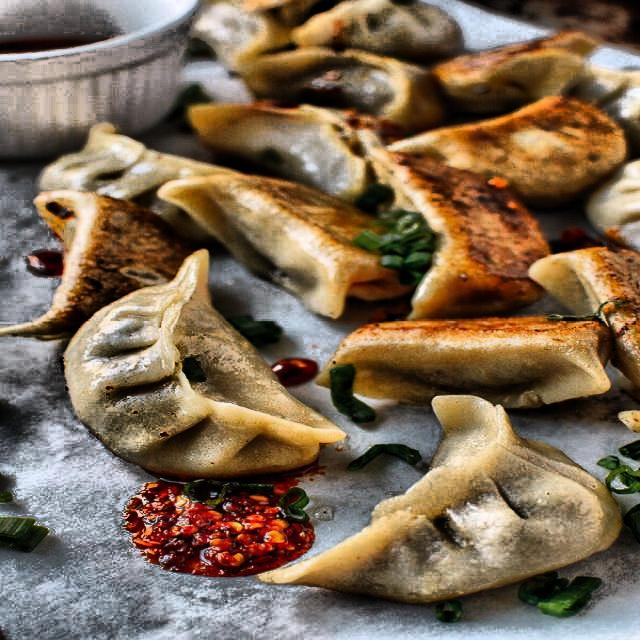Food: (60, 4, 639, 589)
